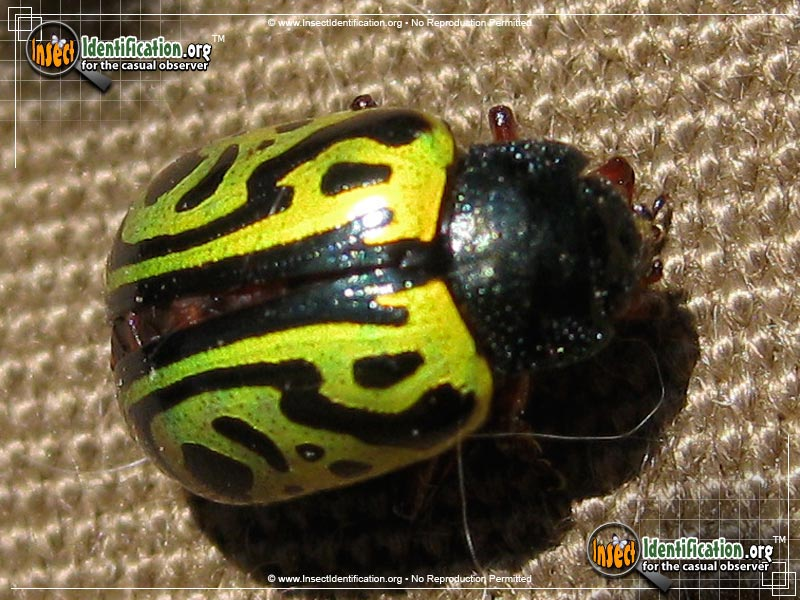Calligrapha Beetle: (79, 105, 682, 529)
